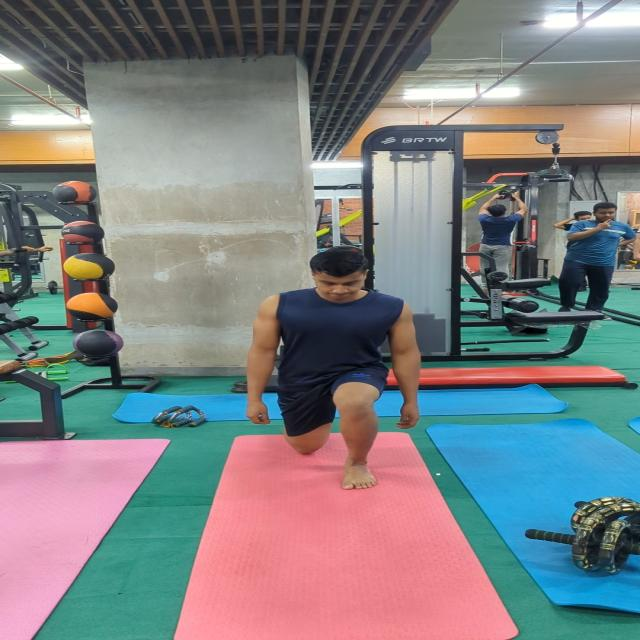Normal_Lunges: (239, 239, 429, 501)
